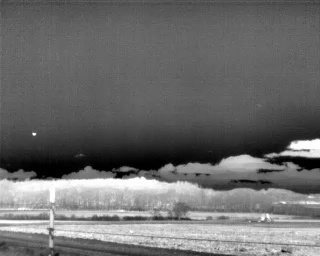DRONE: (29, 129, 39, 139)
